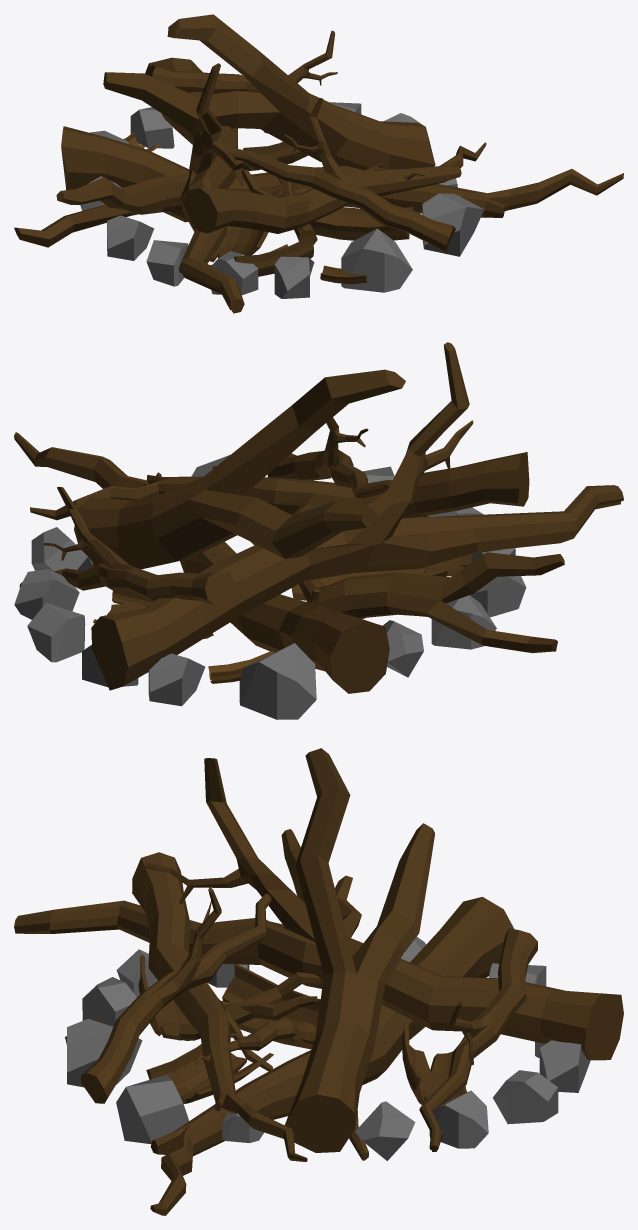
File: feu-de-camp-path_of-matches.fbx
3 views of the same model, one above another, from view 1: azimuth 30°, elevation 25°; view 2: azimuth 150°, elevation 25°; view 3: azimuth 270°, elevation 25° (orthographic). The views are drawn at different scales.
Parts seen in each view (by area): view 1: Cylinder.039; view 2: Cylinder.039; view 3: Cylinder.039.
Part boxes in pixels (box(x1,y1,x2,y2)): Cylinder.039: box(14, 14, 623, 313); Cylinder.039: box(14, 342, 623, 719); Cylinder.039: box(14, 748, 623, 1215).
Size of the model in its own units: 161 by 70.32 by 133.
